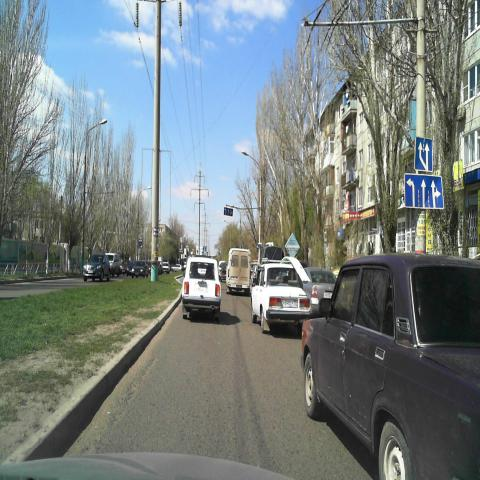5_15_3: (414, 137, 433, 172)
